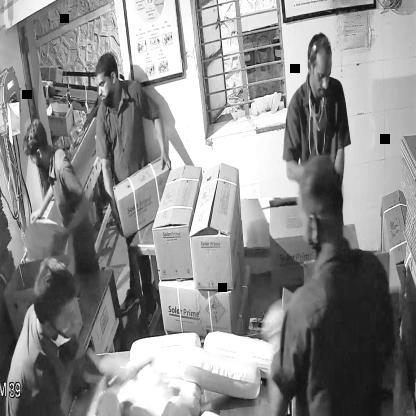no_goggles: (306, 59, 334, 88)
